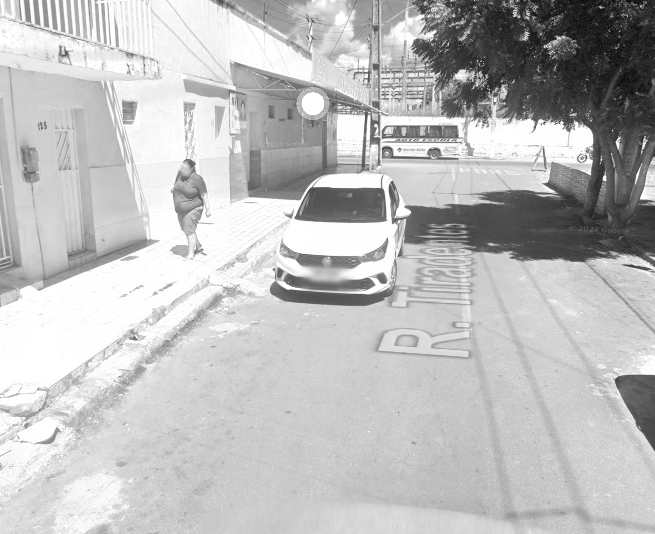car: (267, 163, 417, 321)
